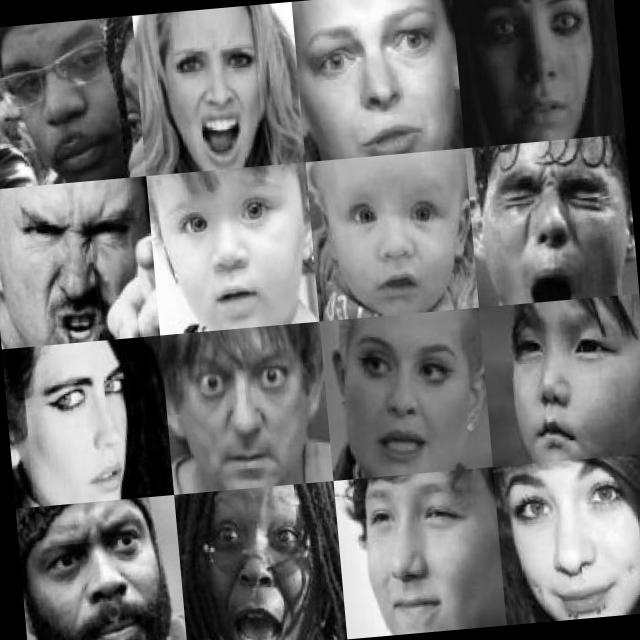angry: (9, 195, 149, 344), (345, 320, 471, 474), (29, 350, 146, 501), (162, 28, 278, 170)
fear: (163, 168, 296, 330), (178, 332, 310, 485), (334, 164, 466, 314), (199, 495, 329, 640), (33, 501, 166, 640)
happy: (500, 451, 640, 624), (354, 471, 486, 637)
neutral: (496, 303, 640, 460), (0, 26, 127, 183)
sad: (302, 0, 452, 159), (484, 146, 624, 308), (469, 0, 601, 139)
